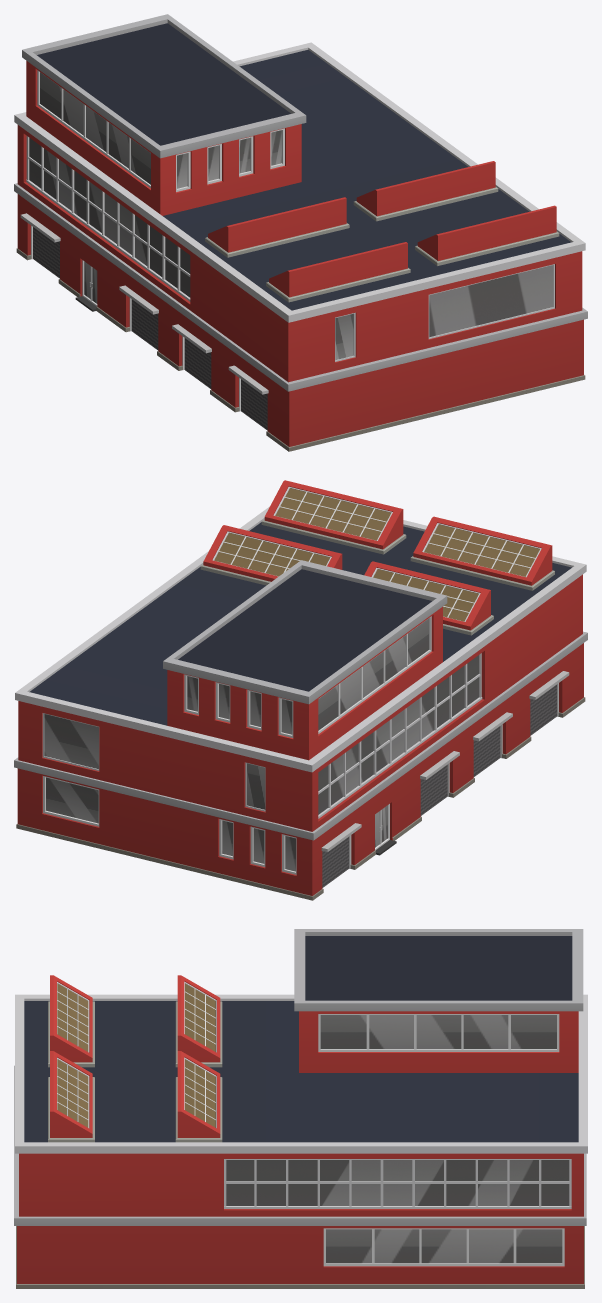
The model's file is Building_Factory_4_A.glb.
3 renders of one model, top to bottom at view 1: azimuth 30°, elevation 25°; view 2: azimuth 150°, elevation 25°; view 3: azimuth 270°, elevation 25°, orthographic. The views are drawn at different scales.
Visible parts, largest first — view 1: Building_Factory_4_A; view 2: Building_Factory_4_A; view 3: Building_Factory_4_A.
Part boxes in pixels (x1=…): Building_Factory_4_A: x1=14, y1=14, x2=587, y2=451; Building_Factory_4_A: x1=14, y1=480, x2=587, y2=900; Building_Factory_4_A: x1=14, y1=929, x2=587, y2=1288.
Size of the model in its own units: 18.2 by 11.59 by 28.56.
4 materials, 4 textured.
